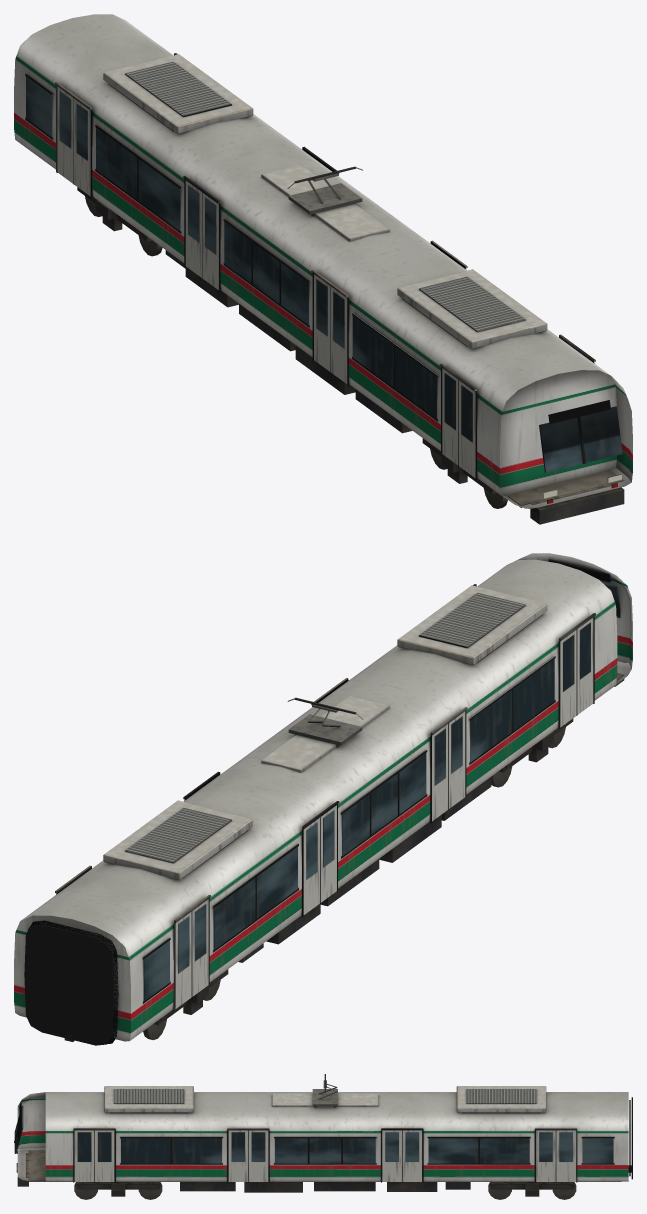
The model's file is metro_train_cab.glb.
The picture shows the model from 3 angles, top to bottom: view 1: azimuth 30°, elevation 25°; view 2: azimuth 150°, elevation 25°; view 3: azimuth 270°, elevation 25°; orthographic projection. The views are drawn at different scales.
Parts seen in each view (by area): view 1: body, pantograph; view 2: body, pantograph; view 3: body, pantograph.
Part boxes in pixels (x1=…): body: x1=14, y1=14, x2=632, y2=524; pantograph: x1=287, y1=166, x2=362, y2=216; body: x1=14, y1=553, x2=632, y2=1045; pantograph: x1=287, y1=697, x2=363, y2=747; body: x1=14, y1=1086, x2=632, y2=1199; pantograph: x1=312, y1=1074, x2=337, y2=1107.
Size of the model in its own units: 3 by 4.25 by 22.13.
Materials: 1 (1 with a texture image).
